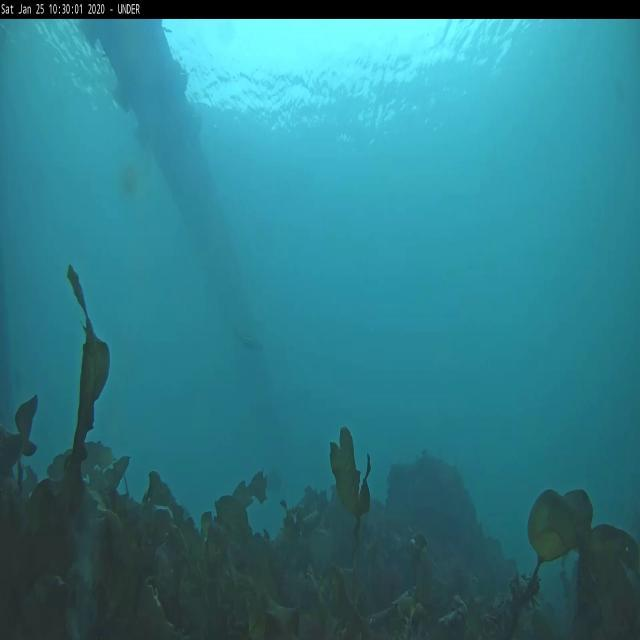fish: (231, 325, 269, 359)
